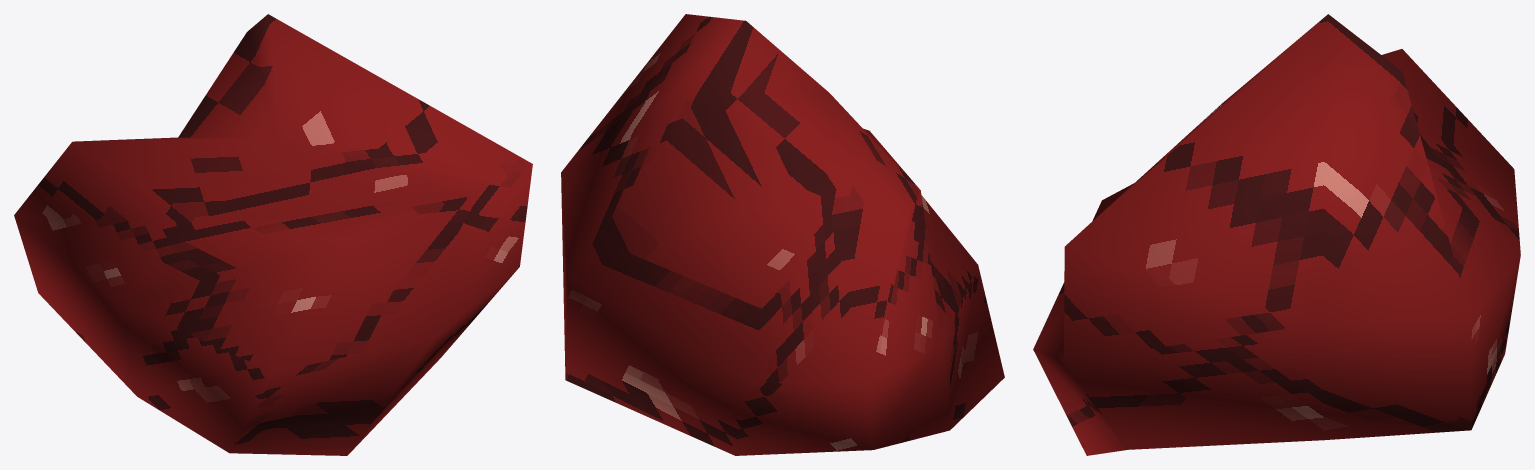
Rendered from meat2.glb.
3 views of the same model, side by side, from view 1: azimuth 30°, elevation 25°; view 2: azimuth 150°, elevation 25°; view 3: azimuth 270°, elevation 25° (orthographic). The views are drawn at different scales.
Visible parts, largest first — view 1: Cube; view 2: Cube; view 3: Cube.
Part boxes in pixels (x1,y1,x2,y2): Cube: (14,14,532,455); Cube: (561,14,1004,455); Cube: (1033,14,1520,455).
Bounding box in the file's own units: 3.02 × 3.1 × 3.02.
1 material, 1 textured.
